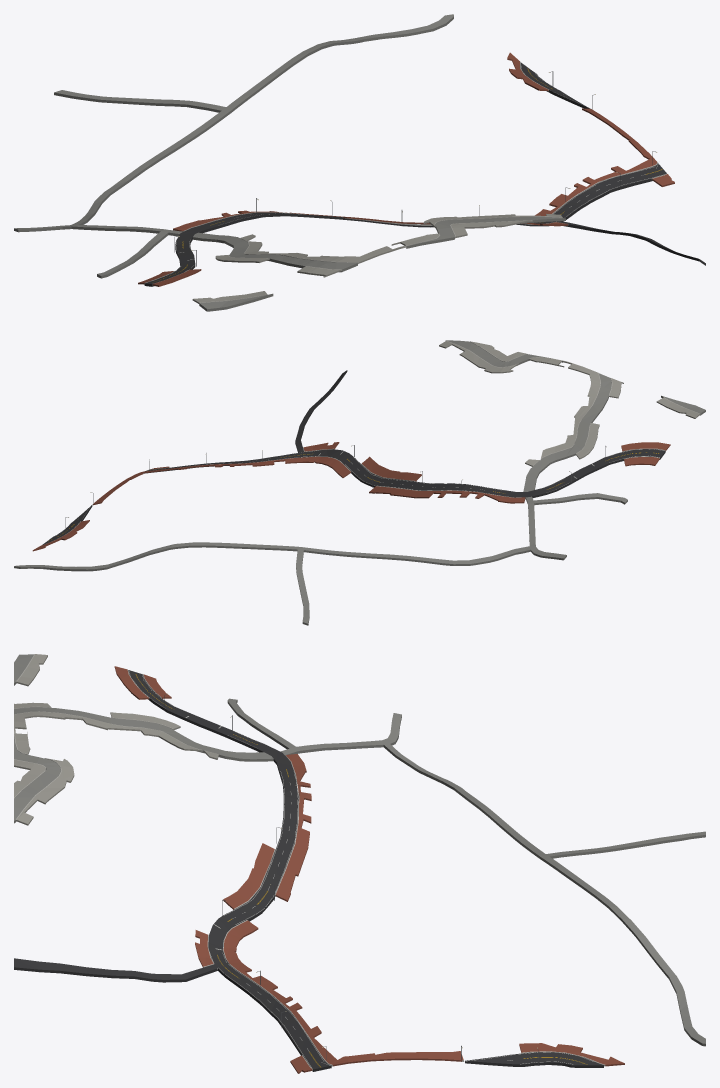
The picture shows the model from 3 angles, top to bottom: view 1: azimuth 30°, elevation 25°; view 2: azimuth 150°, elevation 25°; view 3: azimuth 270°, elevation 25°; orthographic projection. The views are drawn at different scales.
Size of the model in its own units: 296 by 66.02 by 292.
